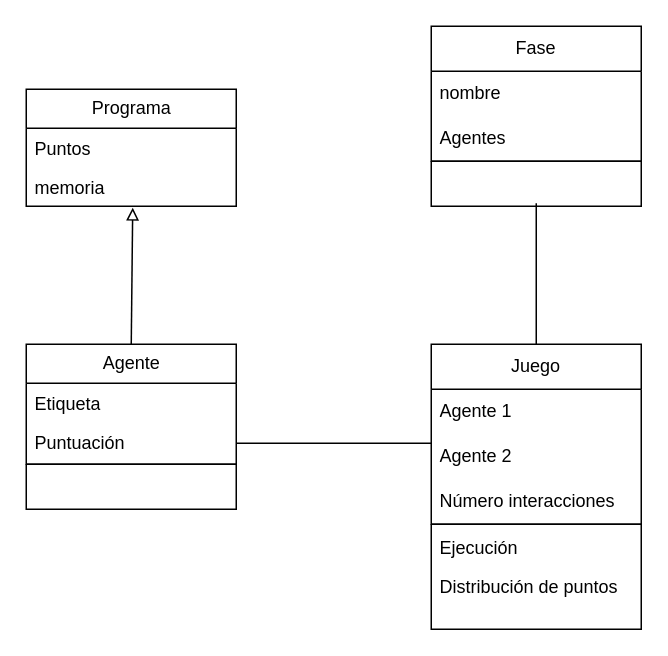
Some shapes in this 668 by 656 pixel diagram are drawn without their labels. Here are the shapes that lost their labels. From the top down, the centre of each, then its label:
At point (535, 183): "Enfrentamiento agentes".
At point (130, 486): "Estrategia".
